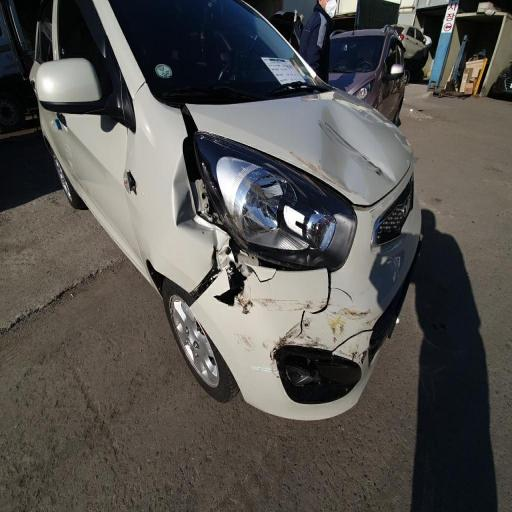broken: (155, 94, 264, 338)
scratch: (276, 191, 376, 403)
